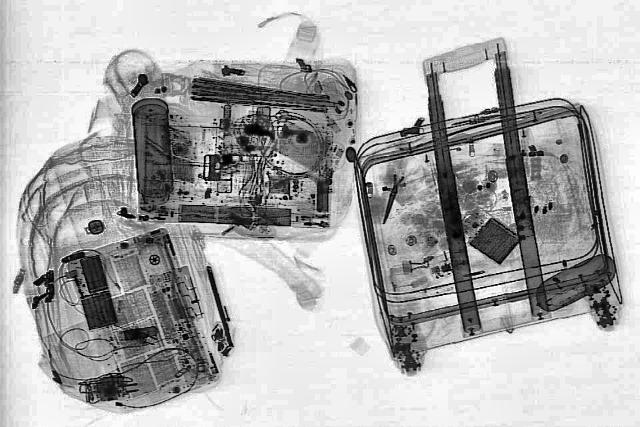Knife: (380, 172, 404, 224)
